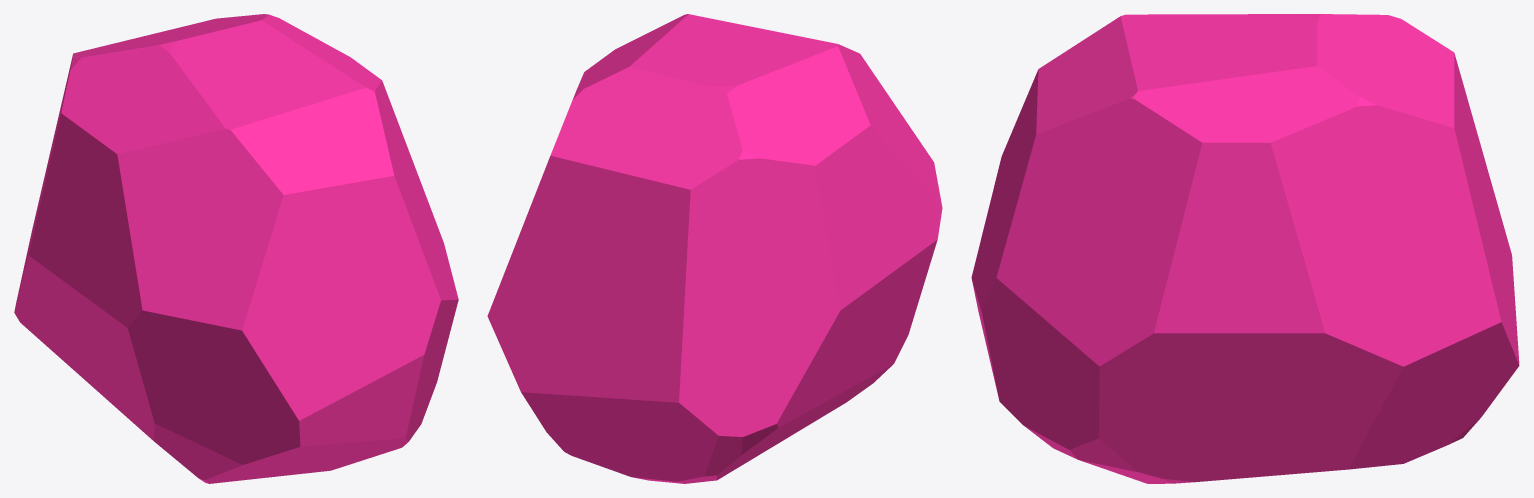
File: gem-2-compressed.gltf
3 views of the same model, side by side, from view 1: azimuth 30°, elevation 25°; view 2: azimuth 150°, elevation 25°; view 3: azimuth 270°, elevation 25° (orthographic). The views are drawn at different scales.
Visible parts, largest first — view 1: gem-2; view 2: gem-2; view 3: gem-2.
Part boxes in pixels (x1=…): gem-2: x1=14, y1=14, x2=458, y2=483; gem-2: x1=487, y1=14, x2=942, y2=483; gem-2: x1=971, y1=14, x2=1519, y2=483.
Bounding box in the file's own units: 1.04 × 1.17 × 1.38.
